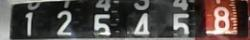digits: (212, 6, 230, 30), (92, 13, 111, 34), (132, 12, 149, 35), (56, 10, 72, 34), (171, 13, 190, 33), (24, 12, 33, 36)
